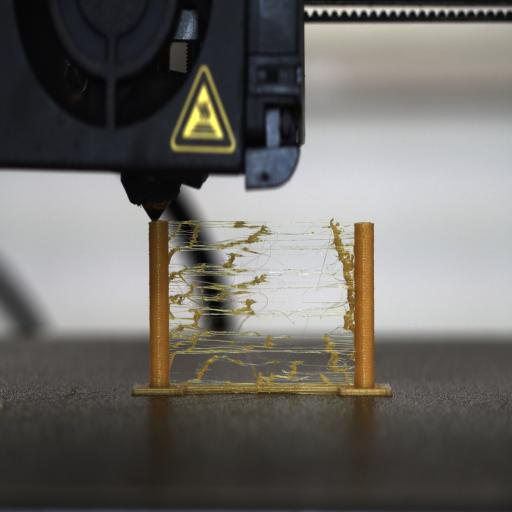stringing: (167, 218, 355, 386)
